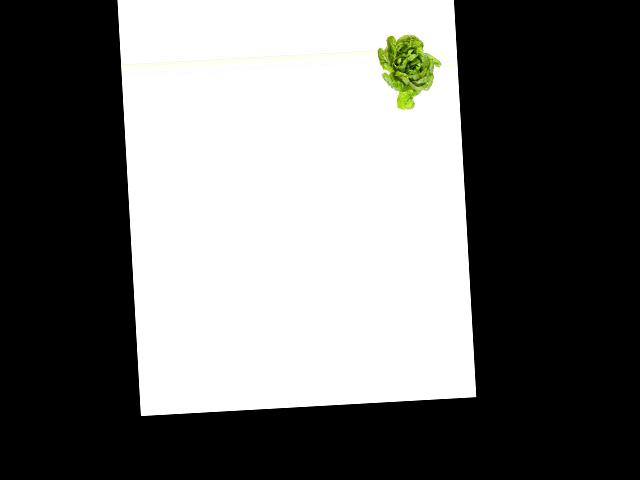lettuce: (378, 31, 443, 113)
